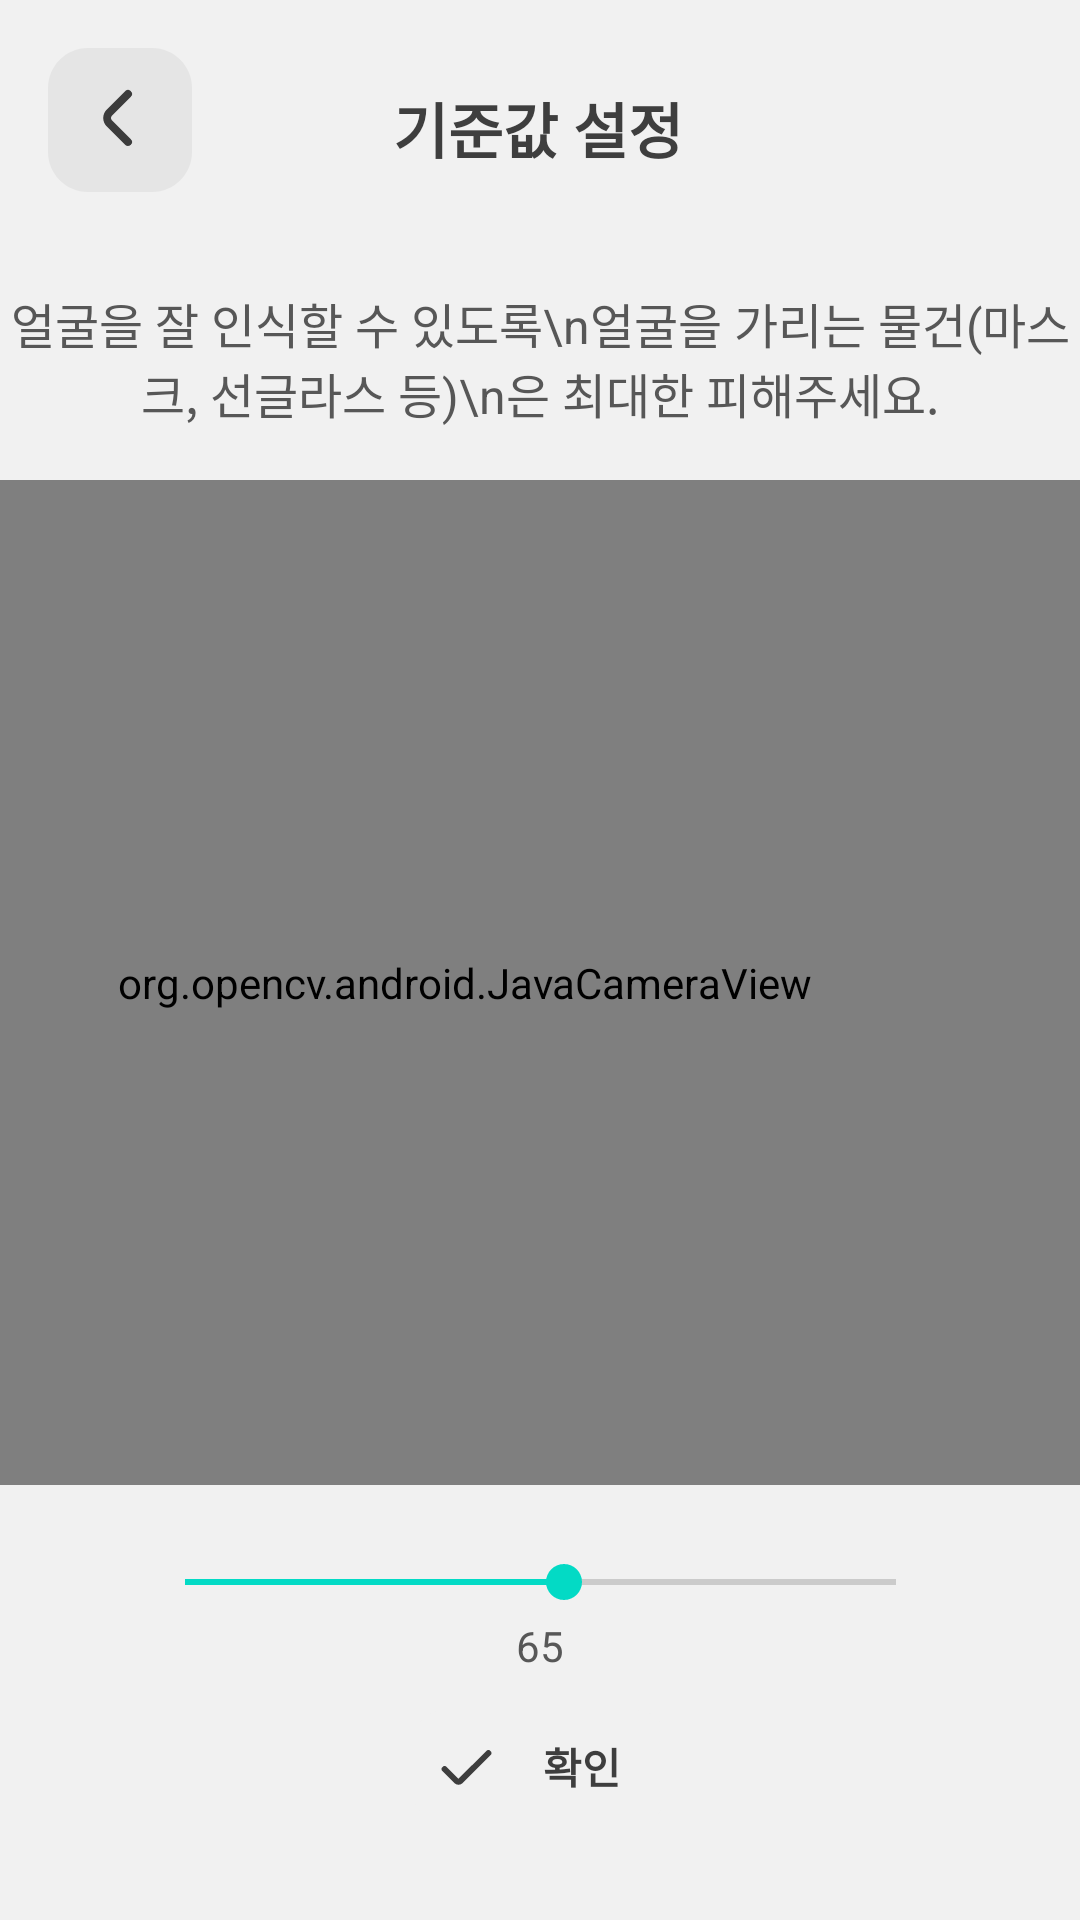

Screen size 1080 × 1920. Icon name, then its center in pixels as [x,y]:
back: [120,120]
